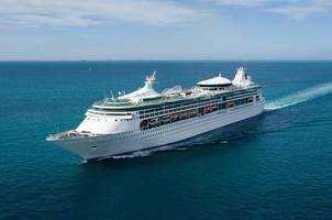youlun: (45, 64, 270, 160)
